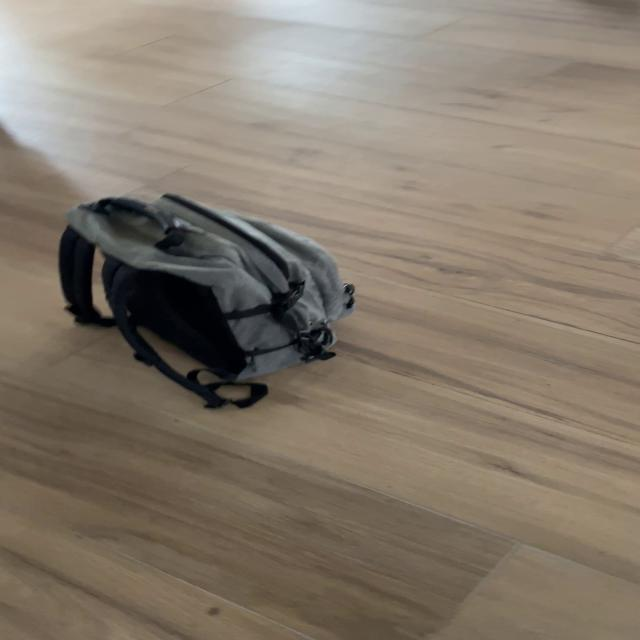backpack: (43, 183, 374, 403)
